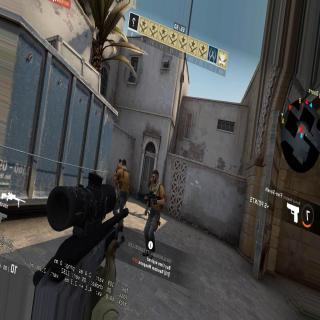T-Body: (144, 170, 164, 256), (113, 159, 131, 230), (116, 158, 122, 170)
T-Head: (152, 170, 157, 183), (122, 158, 126, 168), (118, 158, 122, 164)
